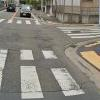crosswalks: (50, 27, 98, 40)
